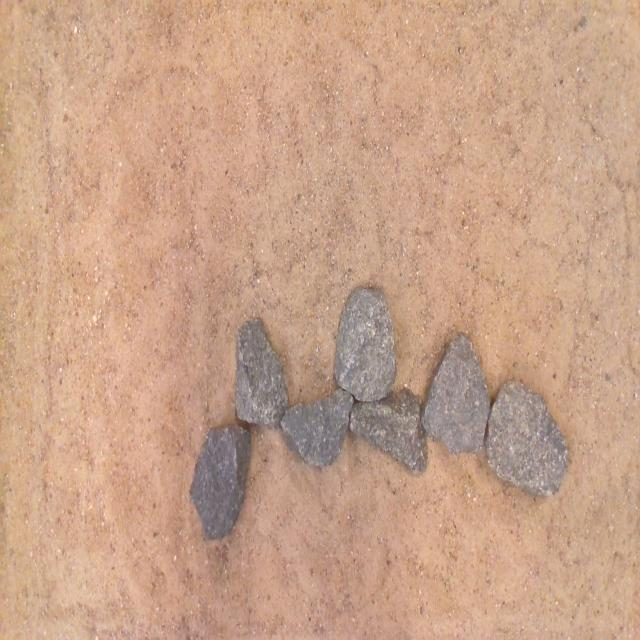rock: (486, 380, 567, 494), (421, 334, 489, 455), (334, 287, 396, 401), (189, 425, 250, 537), (349, 388, 427, 472), (236, 319, 288, 428), (281, 389, 353, 466)
